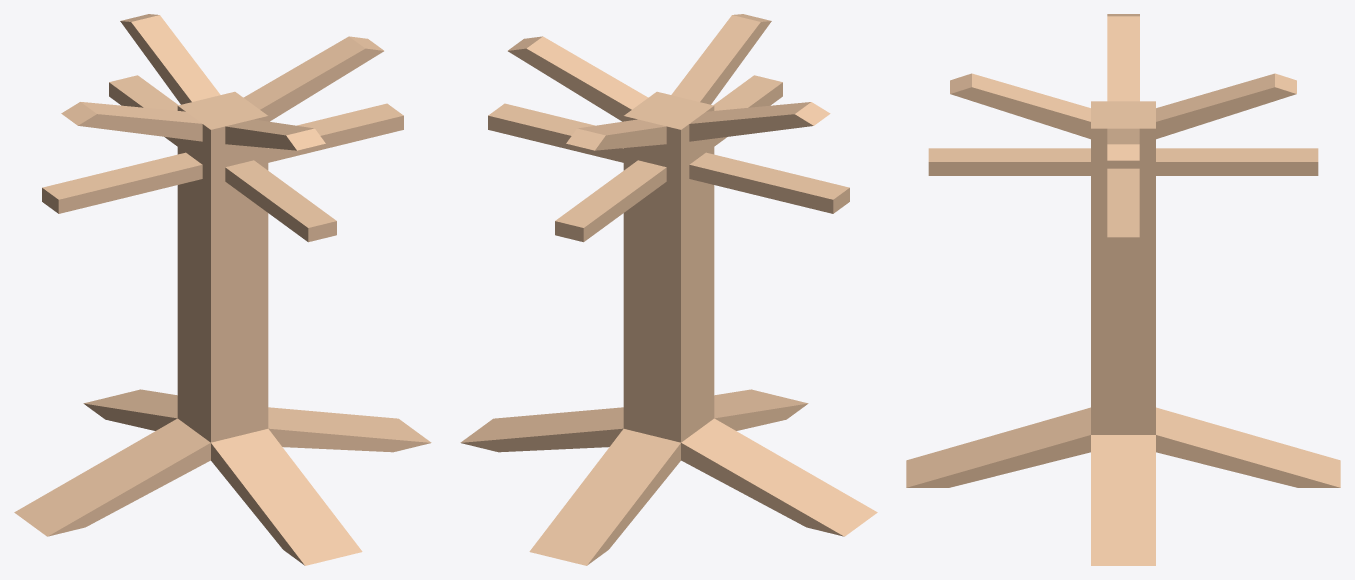
Rendered from kn-coat-rack-standing.glb.
3 views of the same model, side by side, from view 1: azimuth 30°, elevation 25°; view 2: azimuth 150°, elevation 25°; view 3: azimuth 270°, elevation 25° (orthographic). The views are drawn at different scales.
Visible parts, largest first — view 1: coatRackStanding(Clone); view 2: coatRackStanding(Clone); view 3: coatRackStanding(Clone).
Part boxes in pixels (x1,y1,x2,y2): coatRackStanding(Clone): (14, 14, 431, 565); coatRackStanding(Clone): (460, 14, 877, 565); coatRackStanding(Clone): (906, 14, 1340, 565).
Bounding box in the file's own units: 1 × 1 × 1.
